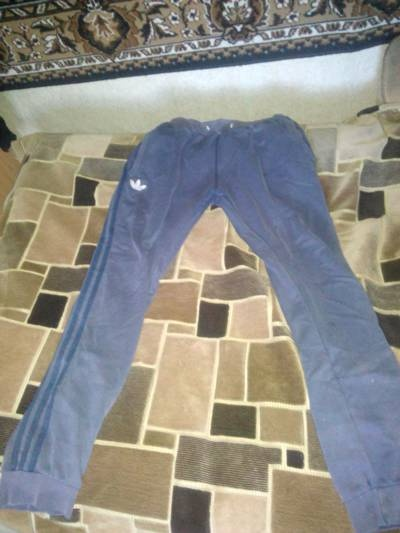Pants: (4, 79, 382, 515)
